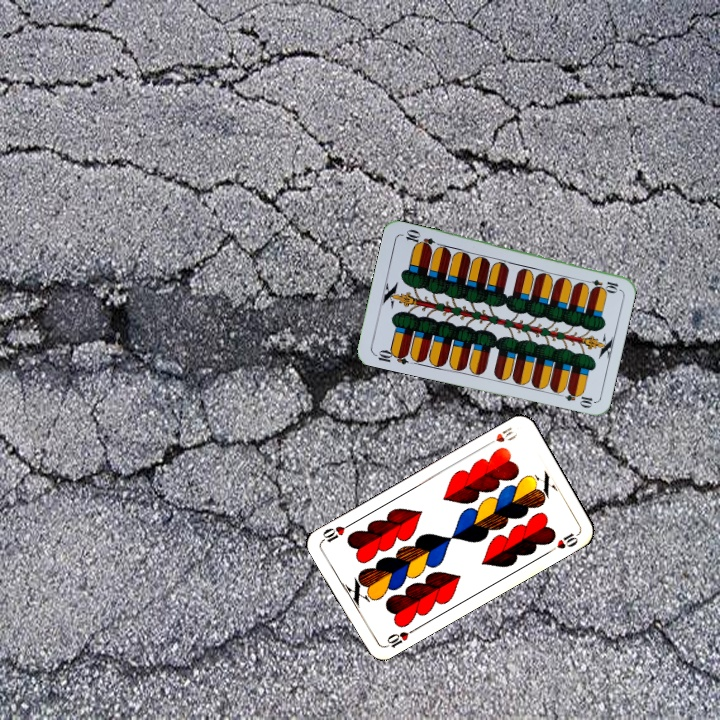E10: (370, 346, 411, 367), (580, 275, 621, 294)
H10: (482, 423, 520, 449), (380, 625, 418, 651)
